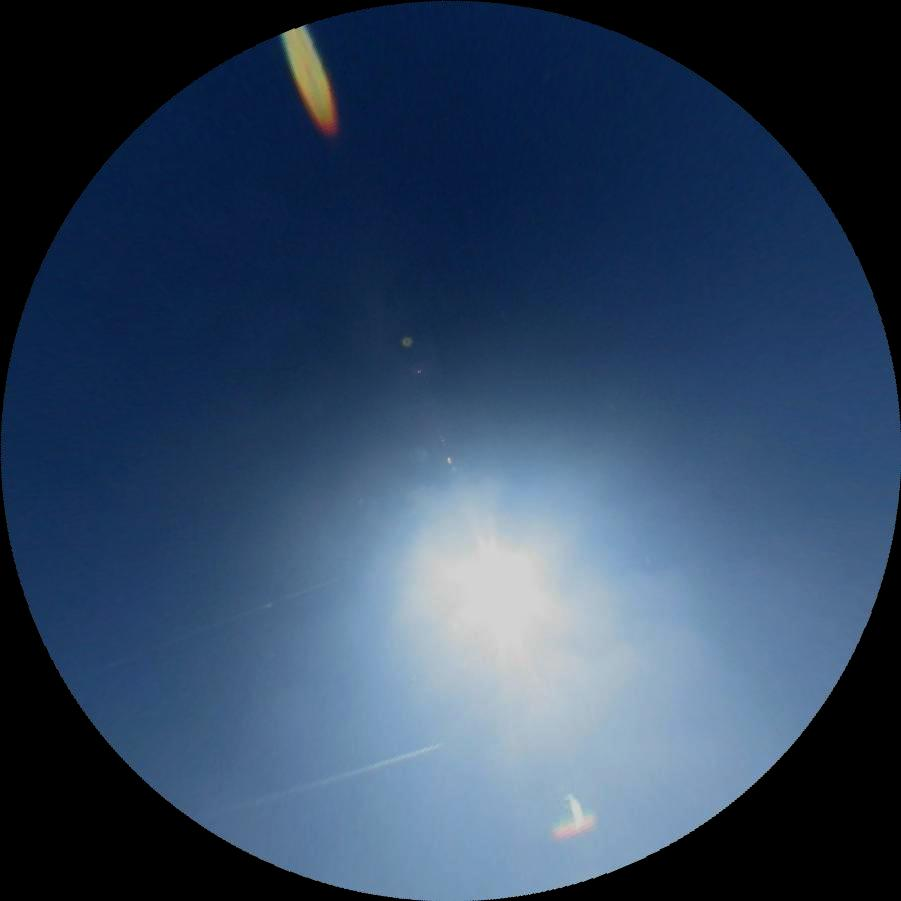contrail young: (192, 740, 443, 827)
parasite: (63, 572, 346, 688)
sun: (426, 528, 564, 665)
